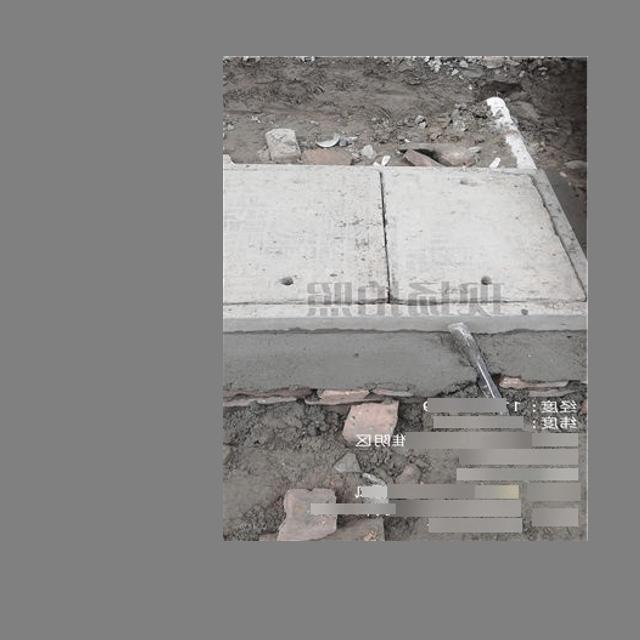good: (223, 162, 587, 330)
